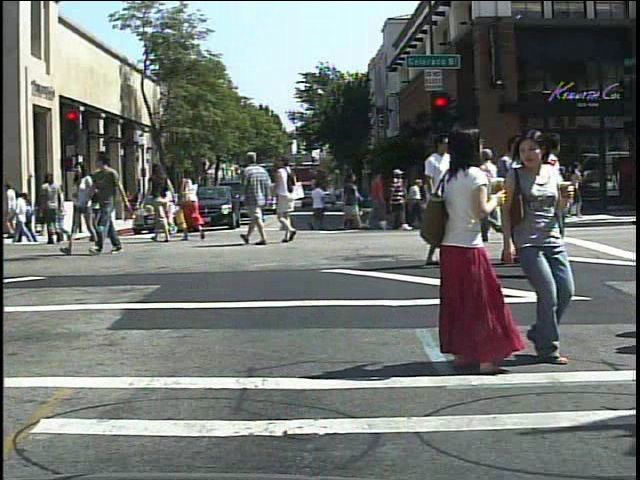person: (427, 123, 514, 378), (501, 125, 579, 368), (419, 130, 479, 273), (538, 130, 588, 280), (483, 132, 537, 269), (478, 138, 526, 248), (94, 147, 135, 258), (61, 160, 101, 258), (236, 148, 273, 246), (273, 150, 303, 247), (147, 163, 176, 245), (179, 165, 208, 241), (81, 168, 107, 246), (486, 163, 513, 233), (40, 172, 65, 246), (383, 165, 408, 234)
